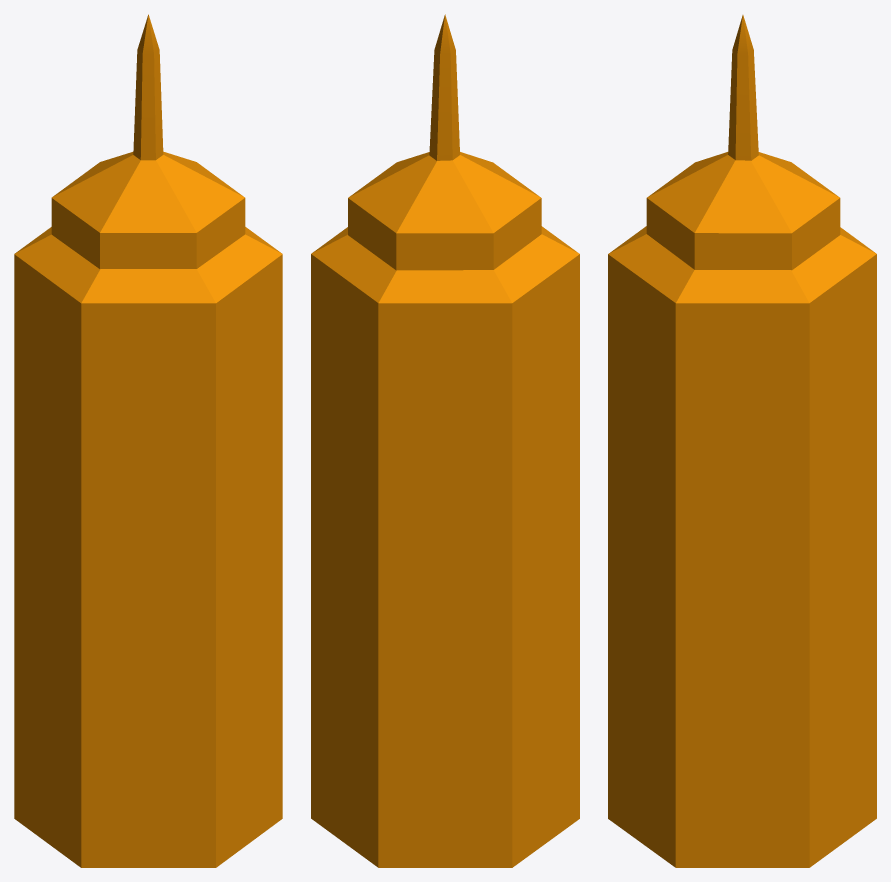
The model's file is BotellaMostaza.fbx.
The picture shows the model from 3 angles, left to right: view 1: azimuth 30°, elevation 25°; view 2: azimuth 150°, elevation 25°; view 3: azimuth 270°, elevation 25°; orthographic projection.
Parts seen in each view (by area): view 1: BotellaMostaza; view 2: BotellaMostaza; view 3: BotellaMostaza.
Boxes of the visible parts, x1,y1,x2,y2 form: BotellaMostaza: (14,14,282,867); BotellaMostaza: (311,14,579,867); BotellaMostaza: (608,15,876,867).
Bounding box in the file's own units: 0.0502 × 0.1912 × 0.0579.
